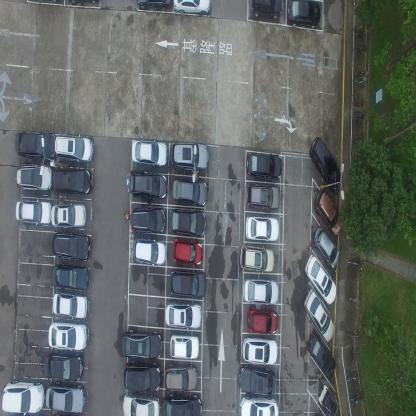car: (304, 288, 336, 344), (308, 135, 340, 191), (305, 254, 336, 304), (1, 381, 43, 415), (121, 328, 162, 361), (306, 333, 336, 378), (314, 188, 342, 236), (170, 139, 210, 172), (125, 170, 167, 200), (169, 268, 207, 301), (45, 386, 86, 416), (124, 360, 162, 392), (172, 176, 208, 209), (164, 301, 202, 332), (52, 231, 90, 262), (48, 320, 87, 350), (312, 225, 339, 268), (168, 208, 206, 238), (44, 354, 83, 383), (15, 131, 56, 158), (128, 207, 166, 236), (244, 277, 280, 307), (54, 135, 94, 162), (286, 0, 322, 30), (52, 168, 93, 194), (130, 138, 168, 166), (15, 162, 53, 190), (247, 149, 283, 178), (246, 182, 282, 211), (52, 263, 89, 291), (239, 365, 277, 392), (240, 244, 274, 274), (243, 336, 278, 365), (52, 292, 88, 320), (164, 363, 198, 392), (132, 240, 167, 268), (245, 215, 279, 243), (15, 199, 51, 225), (173, 236, 203, 266), (123, 392, 160, 416), (170, 332, 199, 361), (51, 203, 86, 227), (162, 394, 202, 415), (248, 308, 279, 334), (239, 395, 279, 415), (247, 0, 283, 19), (318, 384, 338, 416), (174, 0, 211, 16), (136, 0, 172, 12)
